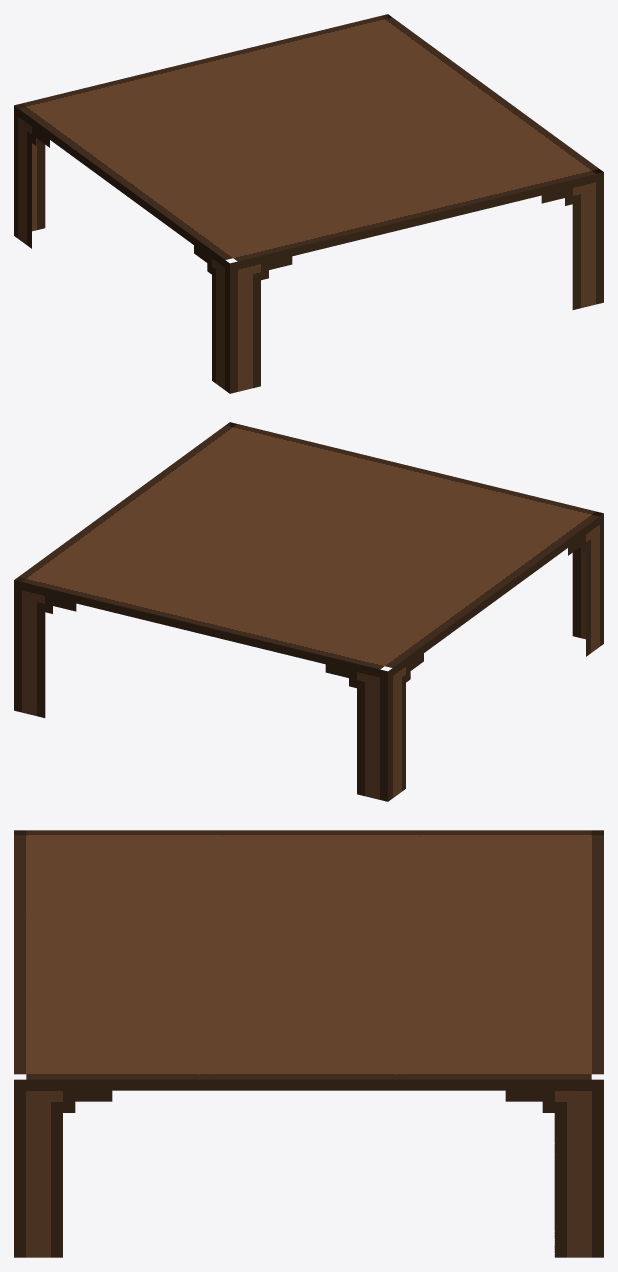
File: Scaled_Table.gltf
The picture shows the model from 3 angles, top to bottom: view 1: azimuth 30°, elevation 25°; view 2: azimuth 150°, elevation 25°; view 3: azimuth 270°, elevation 25°; orthographic projection. The views are drawn at different scales.
Visible parts, largest first — view 1: Scaled Table; view 2: Scaled Table; view 3: Scaled Table.
Part boxes in pixels (x1,y1,x2,y2): Scaled Table: (14,14,603,393); Scaled Table: (14,422,603,801); Scaled Table: (14,830,603,1257).
Size of the model in its own units: 3 by 1 by 3.
Materials: 1 (1 with a texture image).
